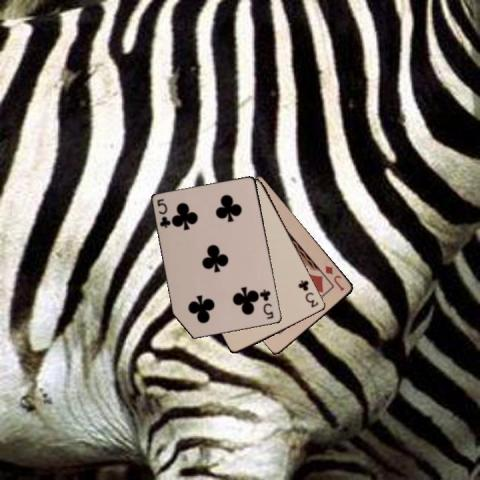3c: (295, 277, 320, 309)
5c: (154, 196, 172, 229), (258, 286, 275, 320)
Jd: (322, 262, 346, 292)
